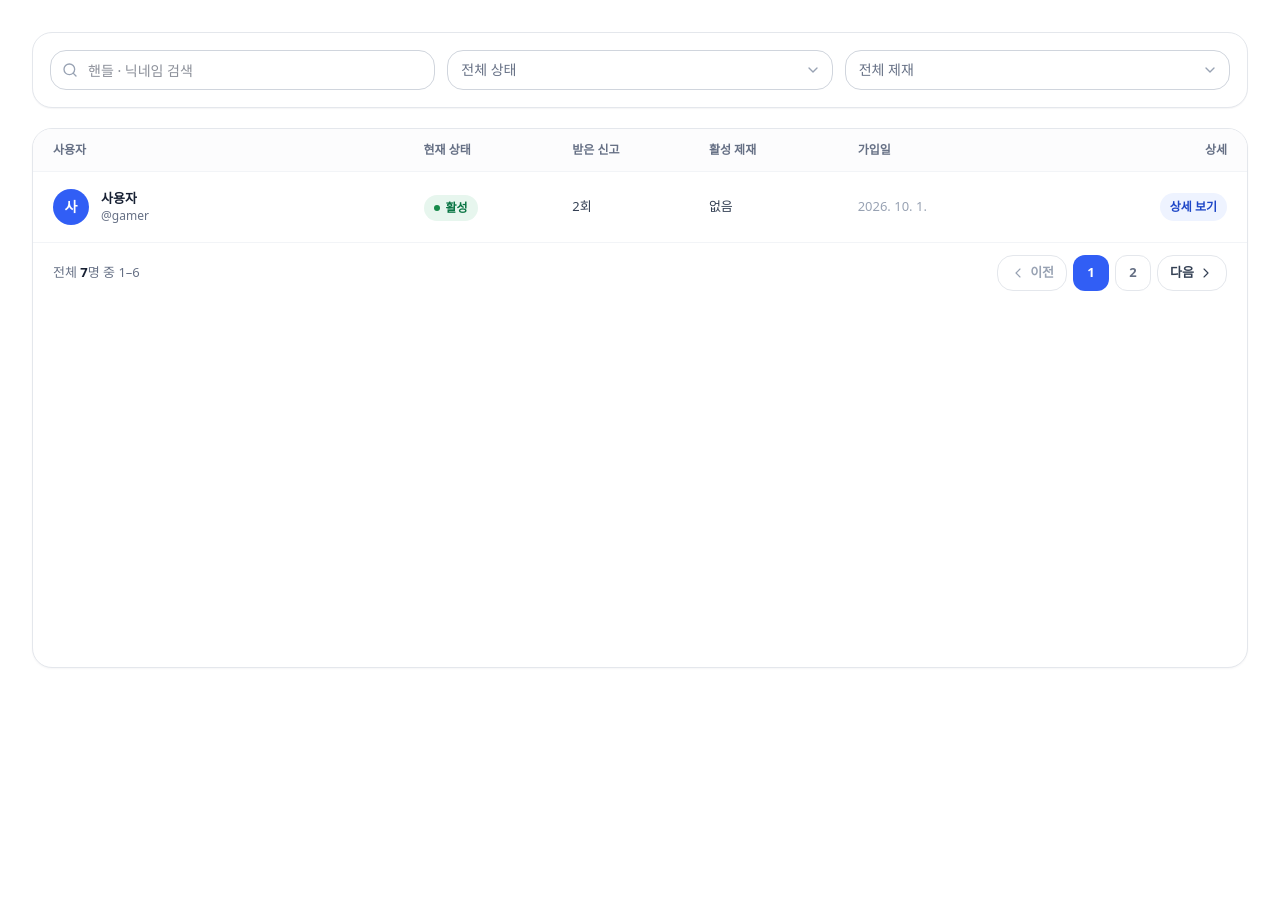
Scenario: 실제 API 기반 사용자 관리 목록 › 마지막 페이지가 사라지고 전체가 비면 첫 페이지로 돌아간다
Check: the text "@gamer" is shown, box [101, 208, 149, 224]
Click the button "2" at (1133, 273), box [1115, 255, 1151, 291]
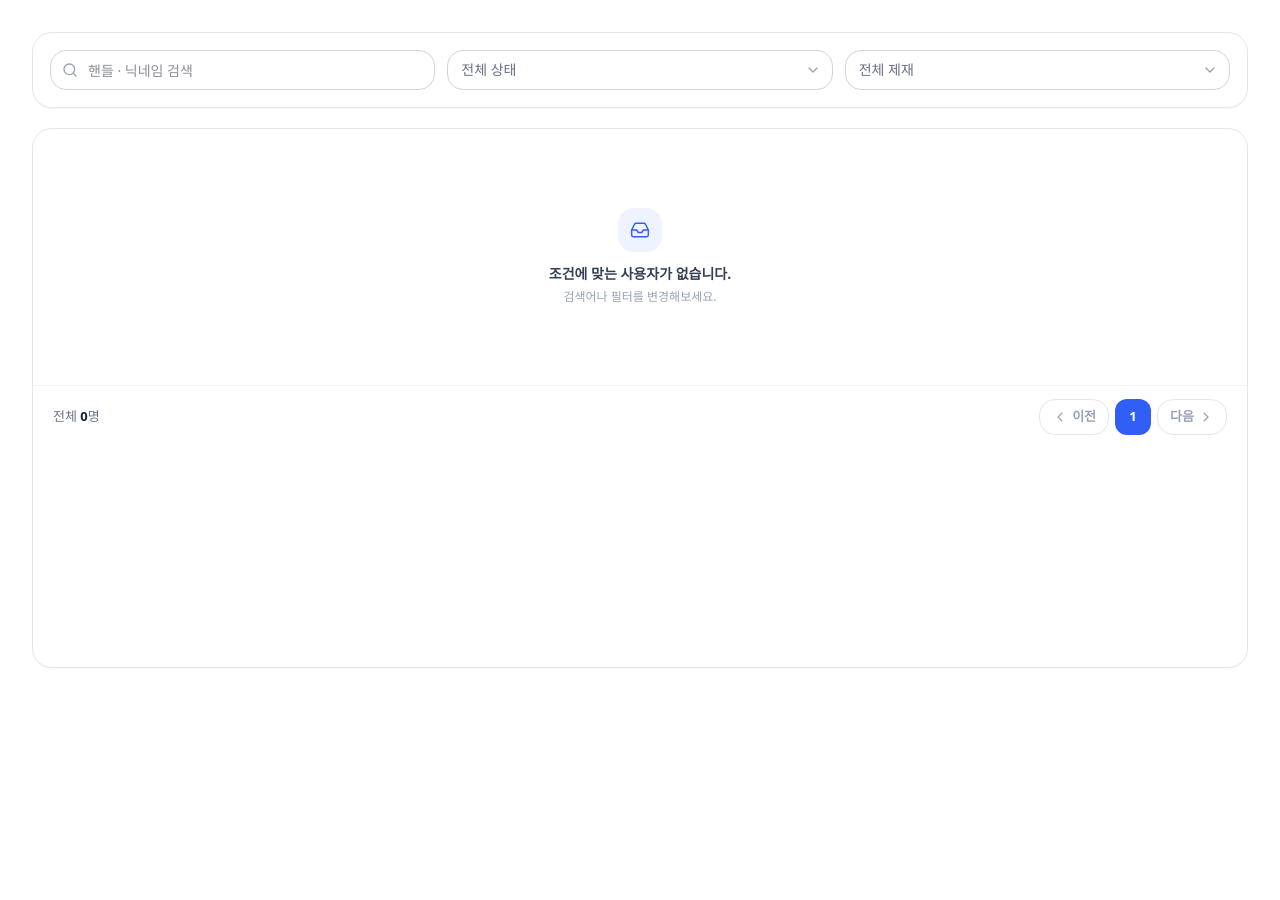
Check: the button "이전" is disabled, box [1039, 398, 1109, 434]
Check: the text "조건에 맞는 사용자가 없습니다." is shown, box [549, 264, 731, 284]
